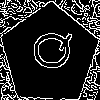Q: (24, 30, 73, 71)
